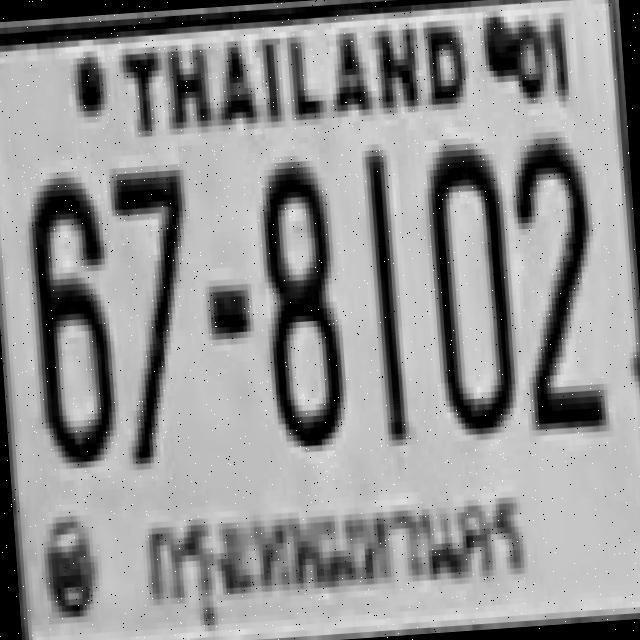0: (420, 136, 514, 430)
1: (361, 146, 406, 444)
2: (508, 126, 602, 428)
6: (20, 170, 114, 464)
7: (106, 163, 201, 464)
8: (252, 154, 342, 442)
Bangkok: (138, 476, 540, 638)
